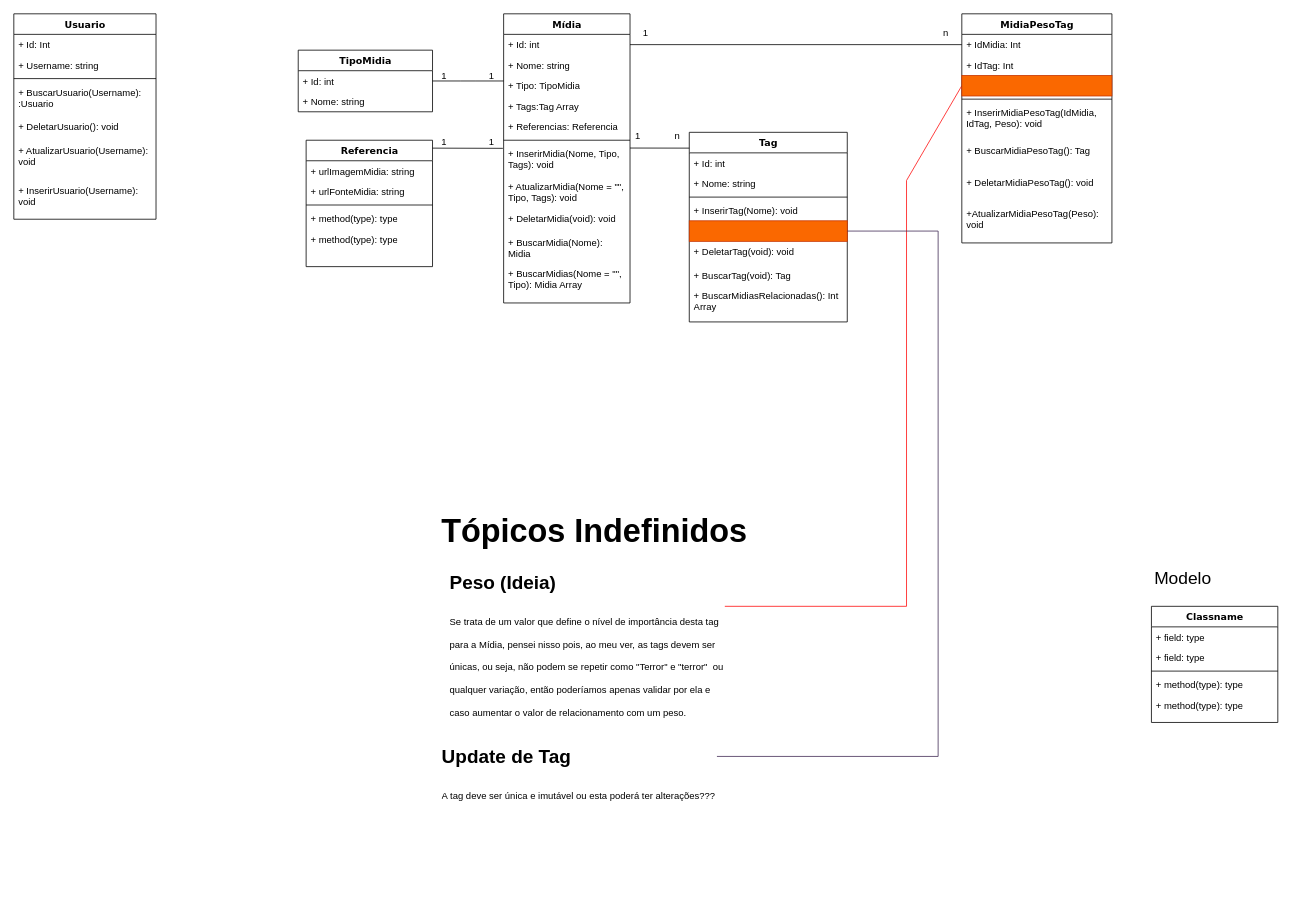
Image size: 1292x915. Some labels were removed from this diagram. Each missing label, with the centre of its shape:
+ AtualizarTag(Nome): void: the point at 767,230
+ Peso: int: the point at 1036,85
